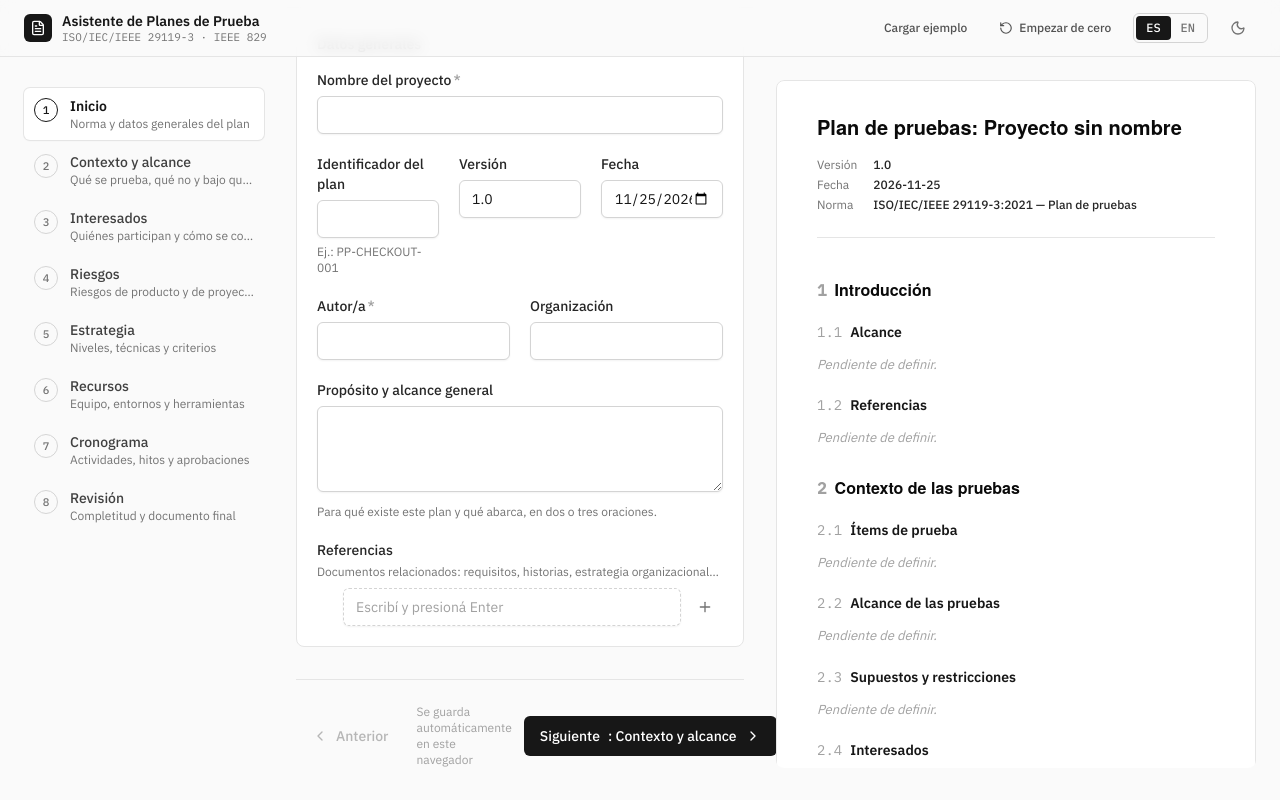
Test: wizard › blocks navigation until the mandatory start data is filled
(page scrolled)
Click the button "Siguiente : Contexto y alcance": (650, 736) [524,716,777,756]
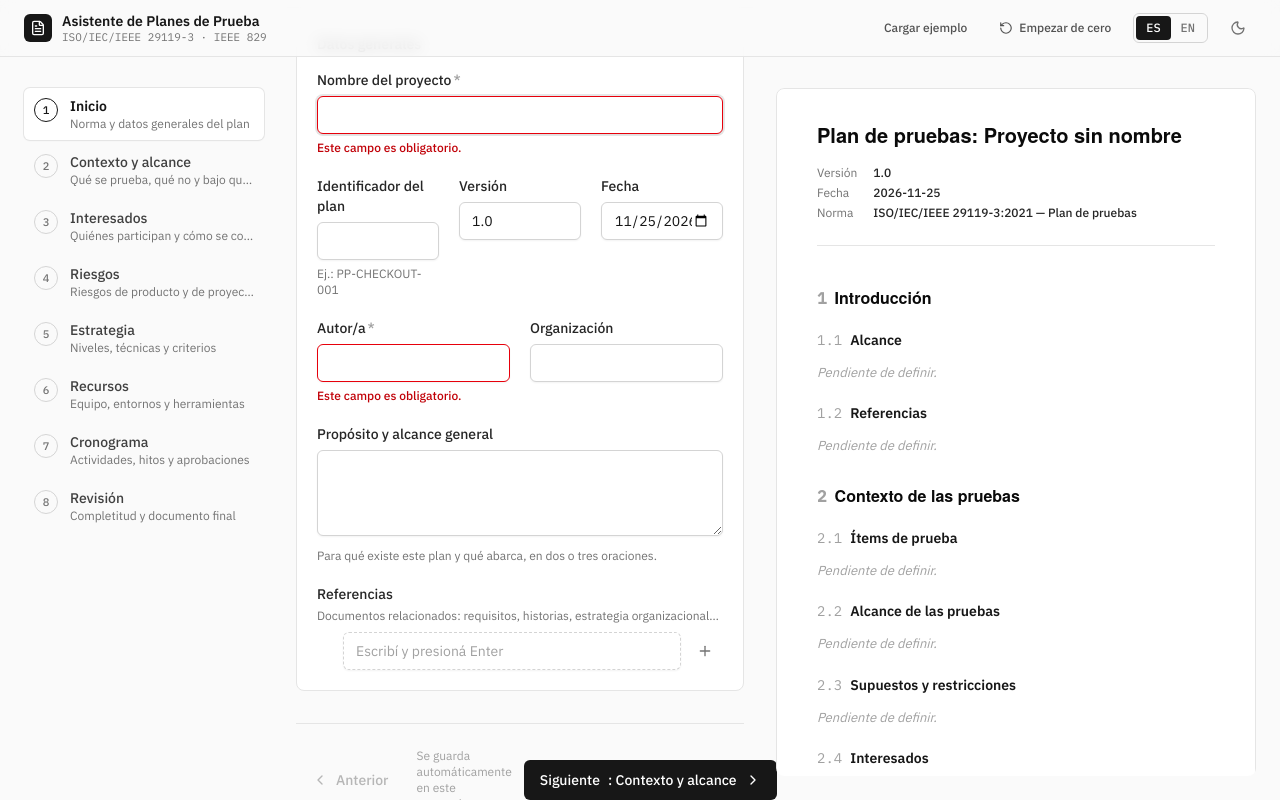
Check: the text "Este campo es obligatorio." is shown 2 times, box [317,140,461,154]; [317,388,461,402]
In the field labelled "Nombre del proyecto*": (520, 114) [317,96,723,134], type "Checkout"
(page scrolled)
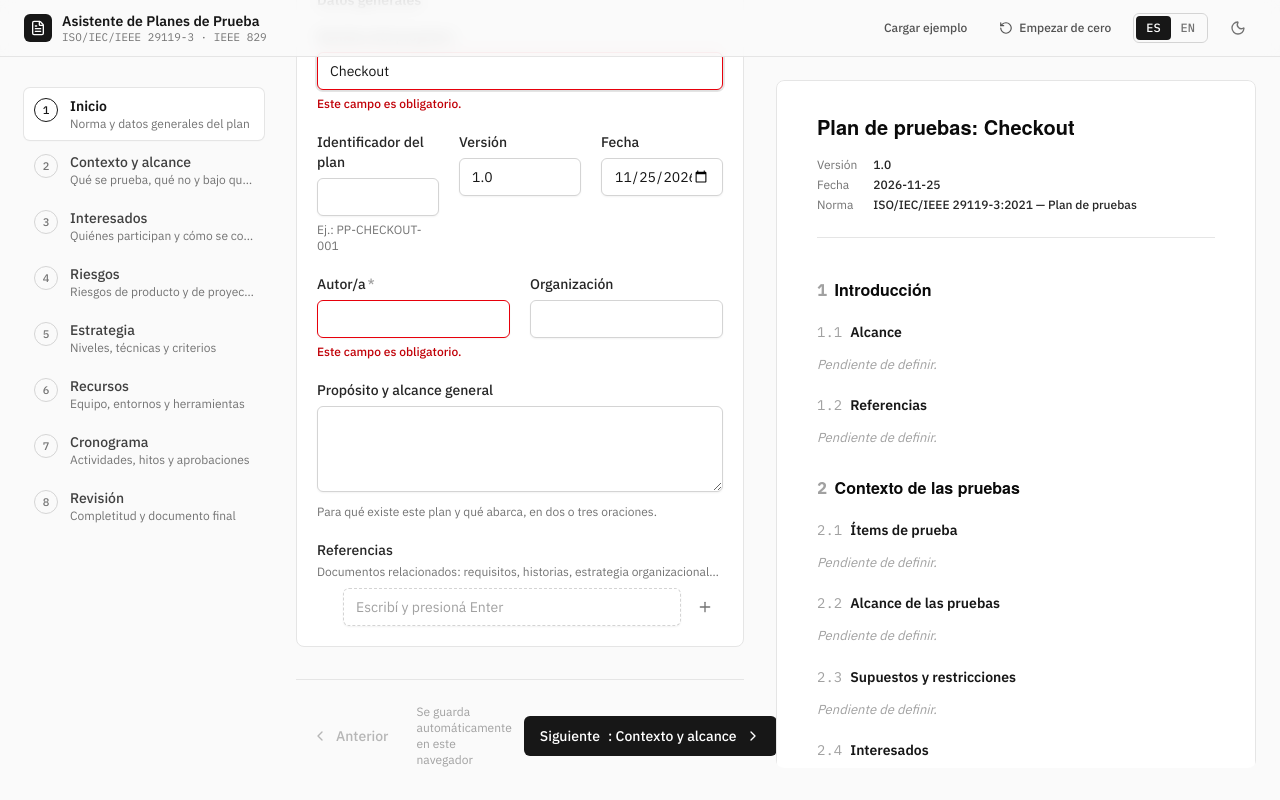
In the field labelled "Autor/a*": (414, 318) [317,300,510,338], type "QA Team"
(page scrolled)
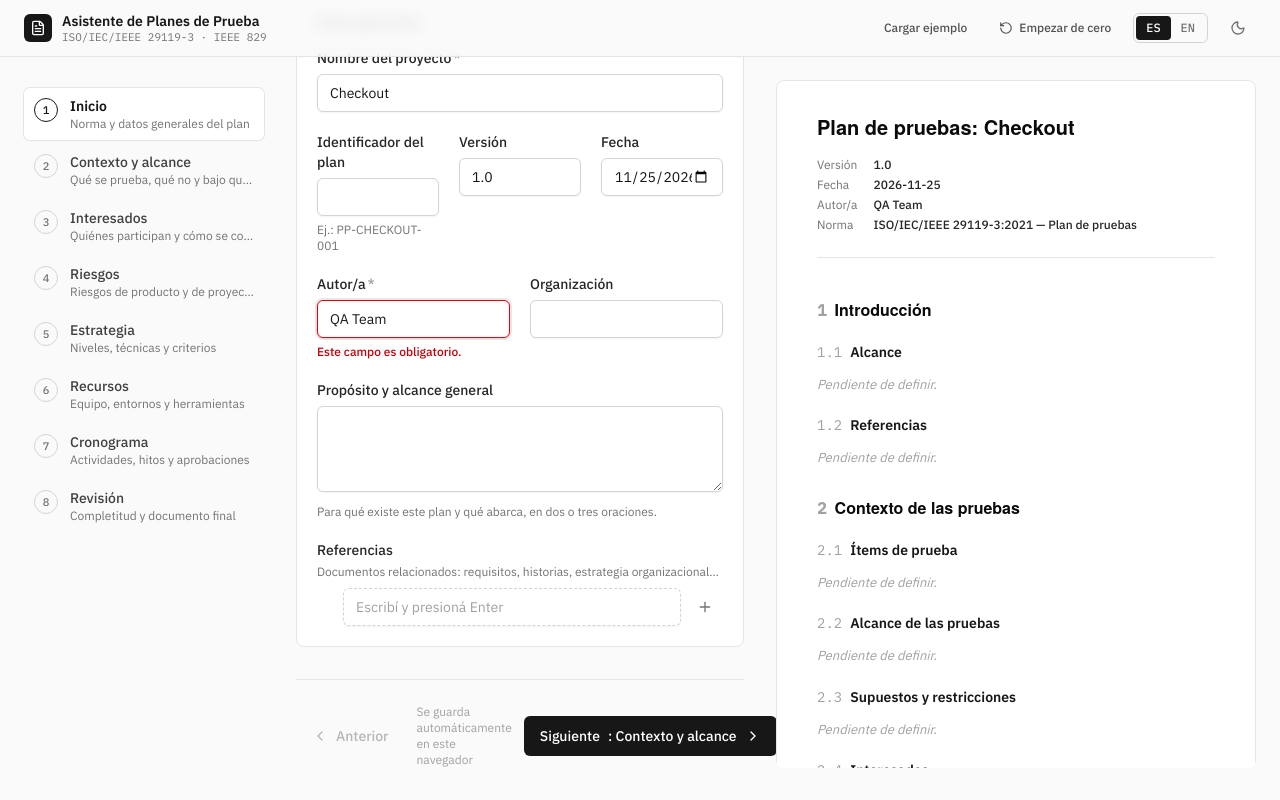
Click the button "Siguiente : Contexto y alcance": (650, 736) [524,716,777,756]
(page scrolled)
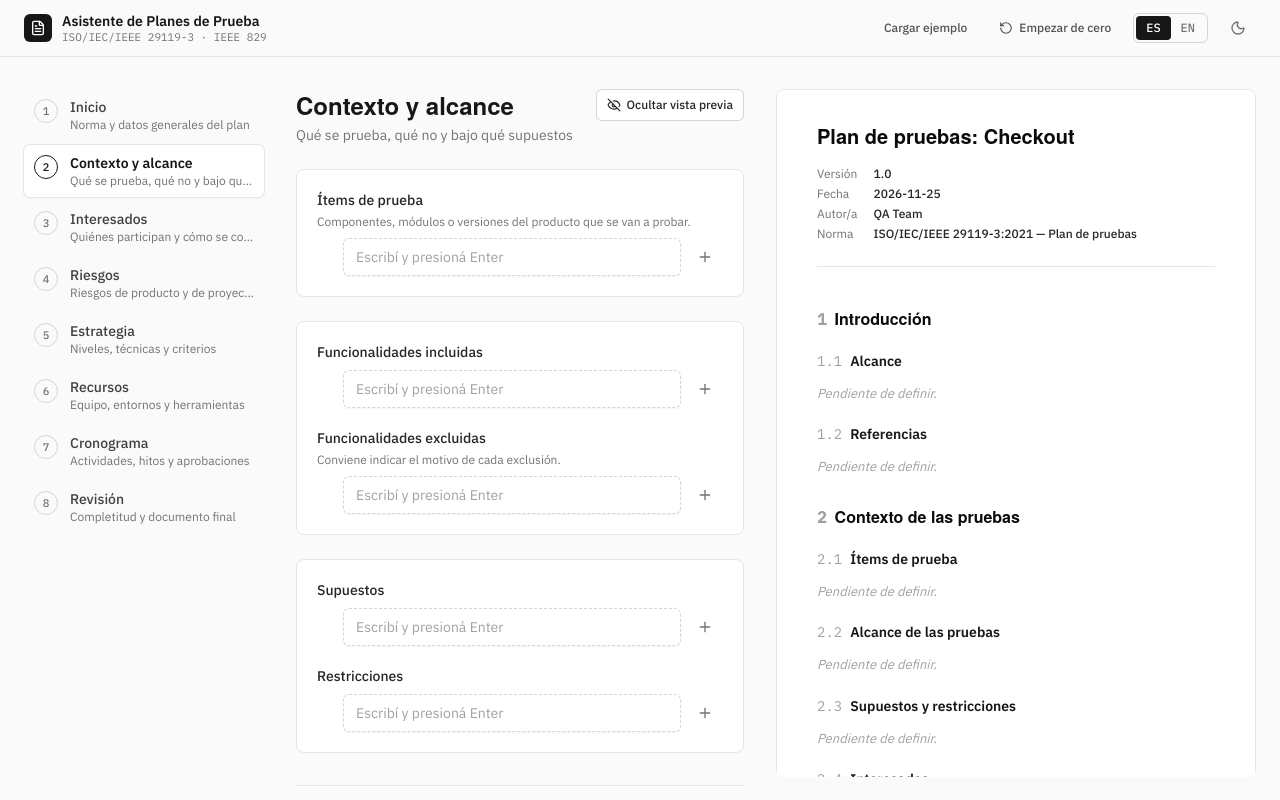
Check: the heading "Contexto y alcance" is shown, box [296,88,514,122]
